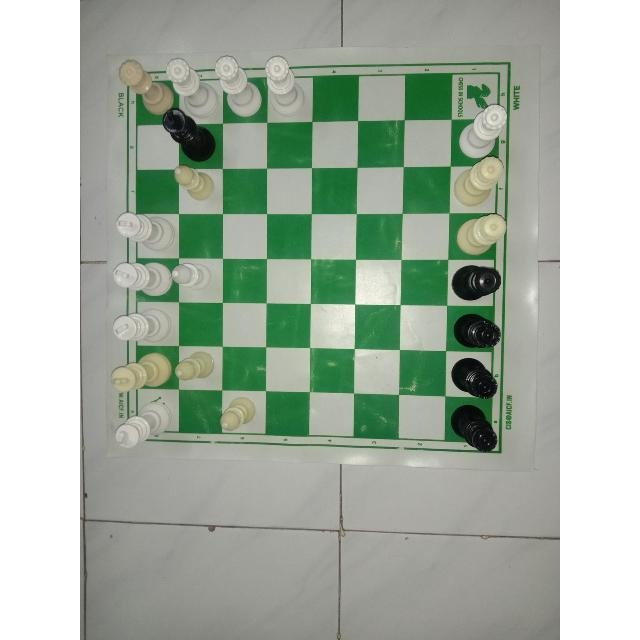black-king: (160, 104, 220, 163)
black-queen: (446, 402, 502, 458), (447, 354, 503, 402), (449, 261, 505, 303), (451, 311, 503, 351)
white-bishop: (170, 162, 218, 203), (169, 259, 218, 297), (170, 349, 217, 387), (218, 394, 262, 434)
white-king: (112, 398, 178, 450), (109, 209, 179, 251), (108, 350, 174, 394), (110, 257, 173, 303), (108, 304, 174, 346)
white-queen: (214, 53, 262, 122), (447, 153, 505, 209), (451, 213, 509, 263), (459, 102, 507, 160), (268, 57, 310, 121), (117, 58, 167, 108), (166, 52, 210, 104)
